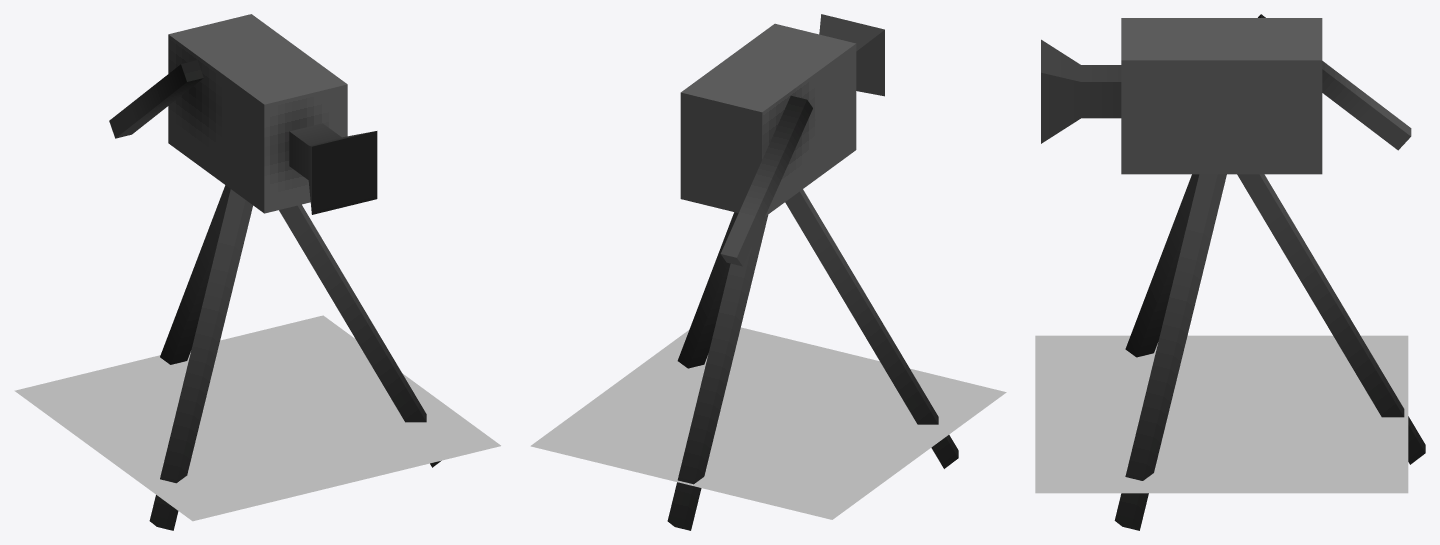
The model's file is camera_stand.FBX.
3 views of the same model, side by side, from view 1: azimuth 30°, elevation 25°; view 2: azimuth 150°, elevation 25°; view 3: azimuth 270°, elevation 25° (orthographic). The views are drawn at different scales.
Parts seen in each view (by area): view 1: camera_stand, camera_stand_soft_shadow; view 2: camera_stand, camera_stand_soft_shadow; view 3: camera_stand, camera_stand_soft_shadow.
Boxes of the visible parts, <box> form: camera_stand: <box>109,14,441,530</box>; camera_stand_soft_shadow: <box>14,315,500,521</box>; camera_stand: <box>667,14,958,530</box>; camera_stand_soft_shadow: <box>530,327,1006,519</box>; camera_stand: <box>1041,14,1425,530</box>; camera_stand_soft_shadow: <box>1035,335,1408,493</box>.
Size of the model in its own units: 742 by 929 by 777.
